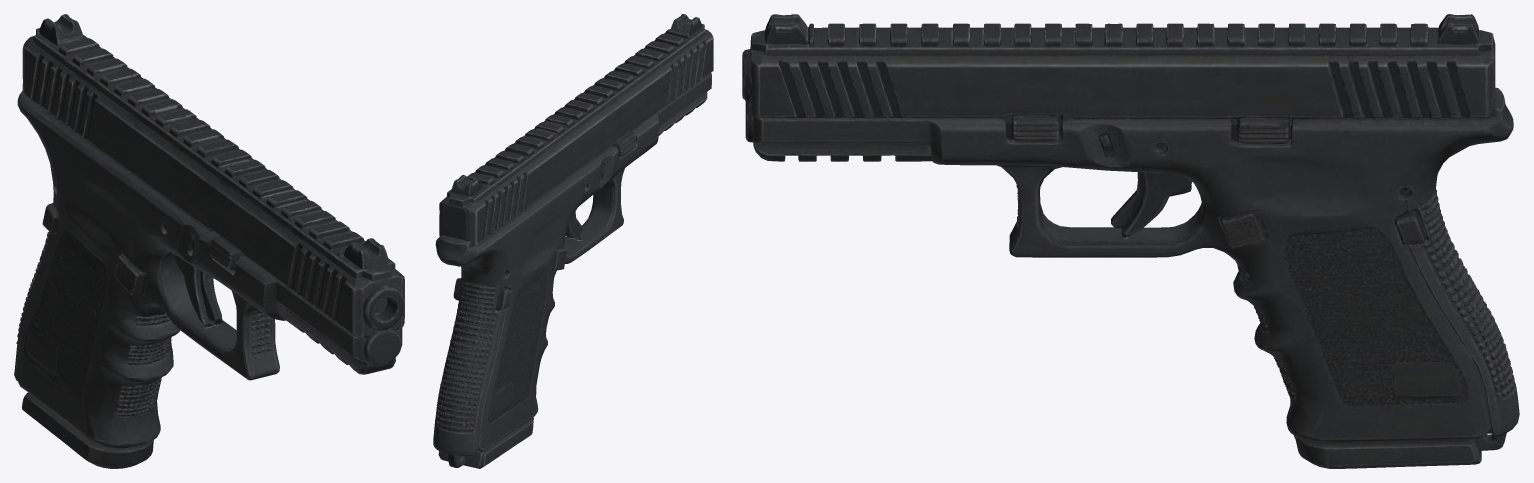
The model's file is glock19.medium.glb.
3 views of the same model, side by side, from view 1: azimuth 30°, elevation 25°; view 2: azimuth 150°, elevation 25°; view 3: azimuth 270°, elevation 25° (orthographic). The views are drawn at different scales.
Parts seen in each view (by area): view 1: model; view 2: model; view 3: model.
Boxes of the visible parts, box(x1,y1,x2,y2) form: model: box(14, 14, 404, 468); model: box(433, 14, 713, 468); model: box(742, 14, 1519, 468).
Bounding box in the file's own units: 0.0236 × 0.1242 × 0.2005.
Materials: 1 (1 with a texture image).
